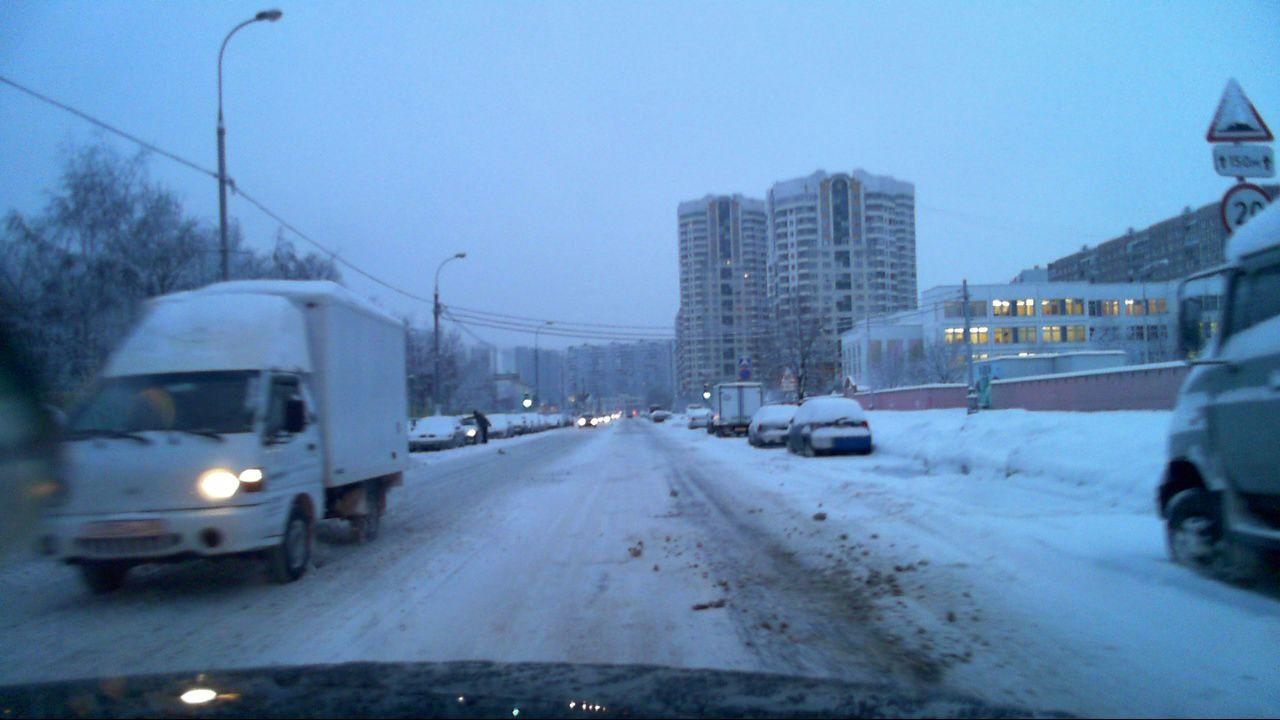obstructed_road_sign: (1221, 181, 1274, 234)
road_sign: (1205, 75, 1275, 142), (1213, 145, 1276, 175)
